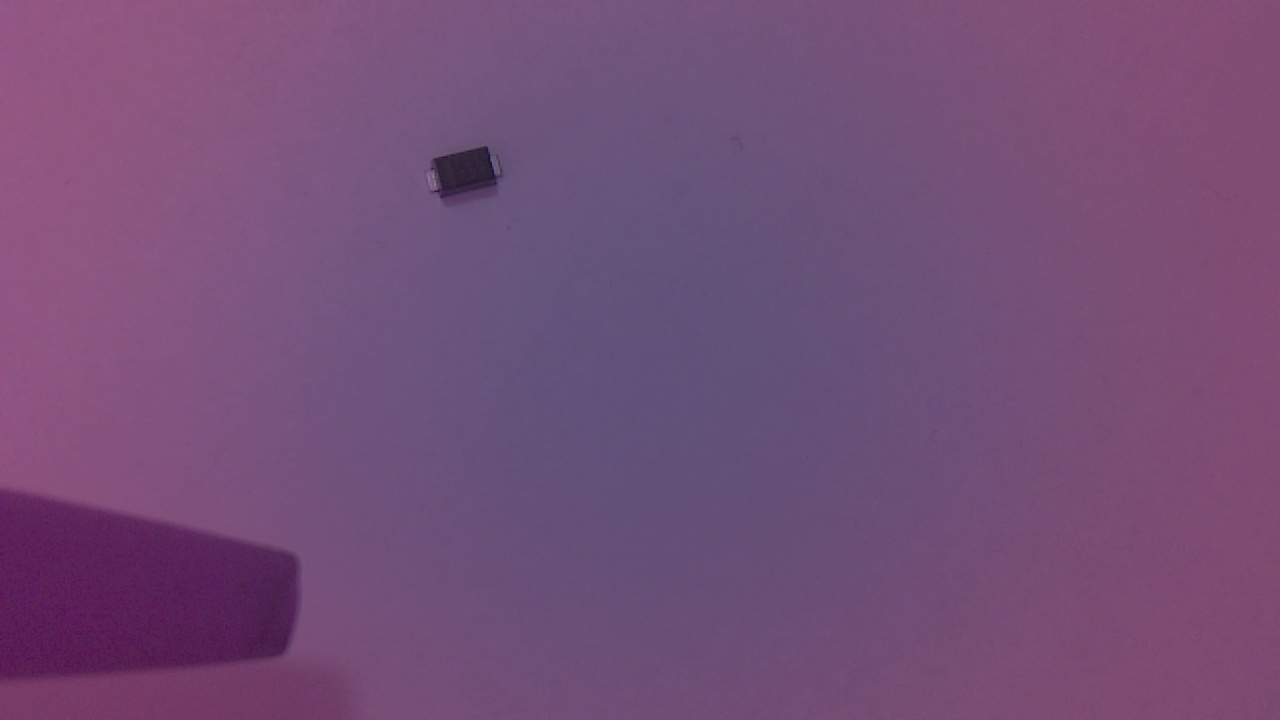Diode: (426, 151, 511, 209)
